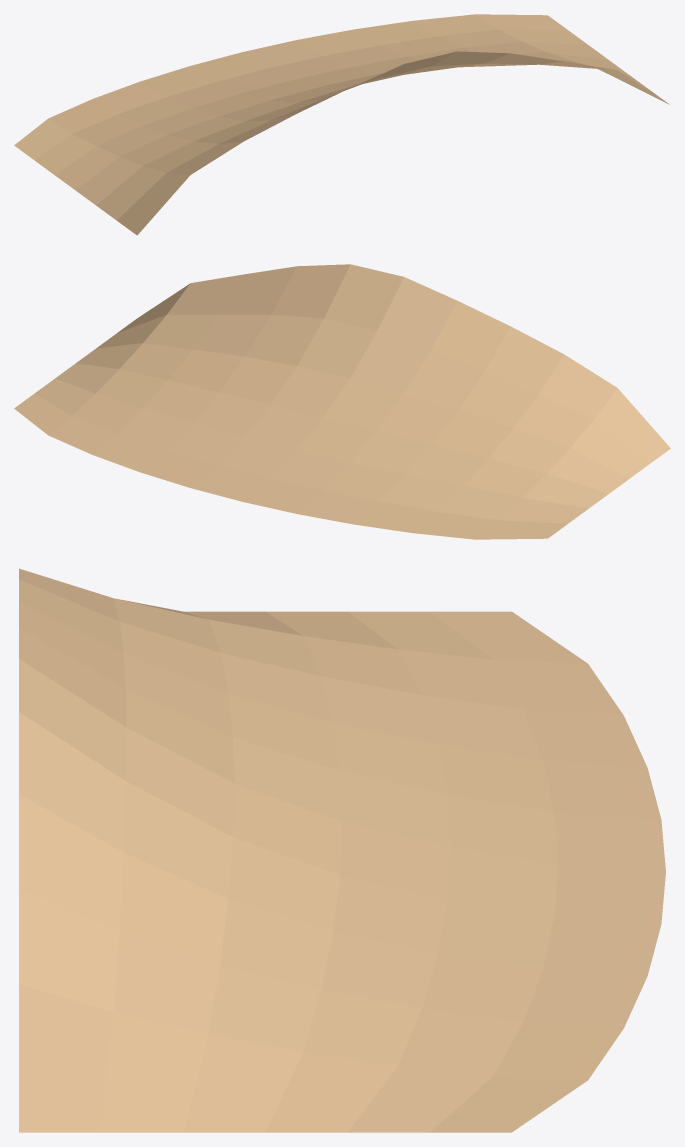
File: SM_DST_Prop_Sand_Drift_A.fbx
3 renders of one model, top to bottom at view 1: azimuth 30°, elevation 25°; view 2: azimuth 150°, elevation 25°; view 3: azimuth 270°, elevation 25°, orthographic. The views are drawn at different scales.
Parts seen in each view (by area): view 1: SM_DST_Prop_Sand_Drift_A.003; view 2: SM_DST_Prop_Sand_Drift_A.003; view 3: SM_DST_Prop_Sand_Drift_A.003.
Part boxes in pixels (x1,y1,x2,y2): SM_DST_Prop_Sand_Drift_A.003: [14, 14, 669, 235]; SM_DST_Prop_Sand_Drift_A.003: [14, 264, 670, 539]; SM_DST_Prop_Sand_Drift_A.003: [19, 568, 665, 1132].
Size of the model in its own units: 2 by 0.3816 by 1.05.
